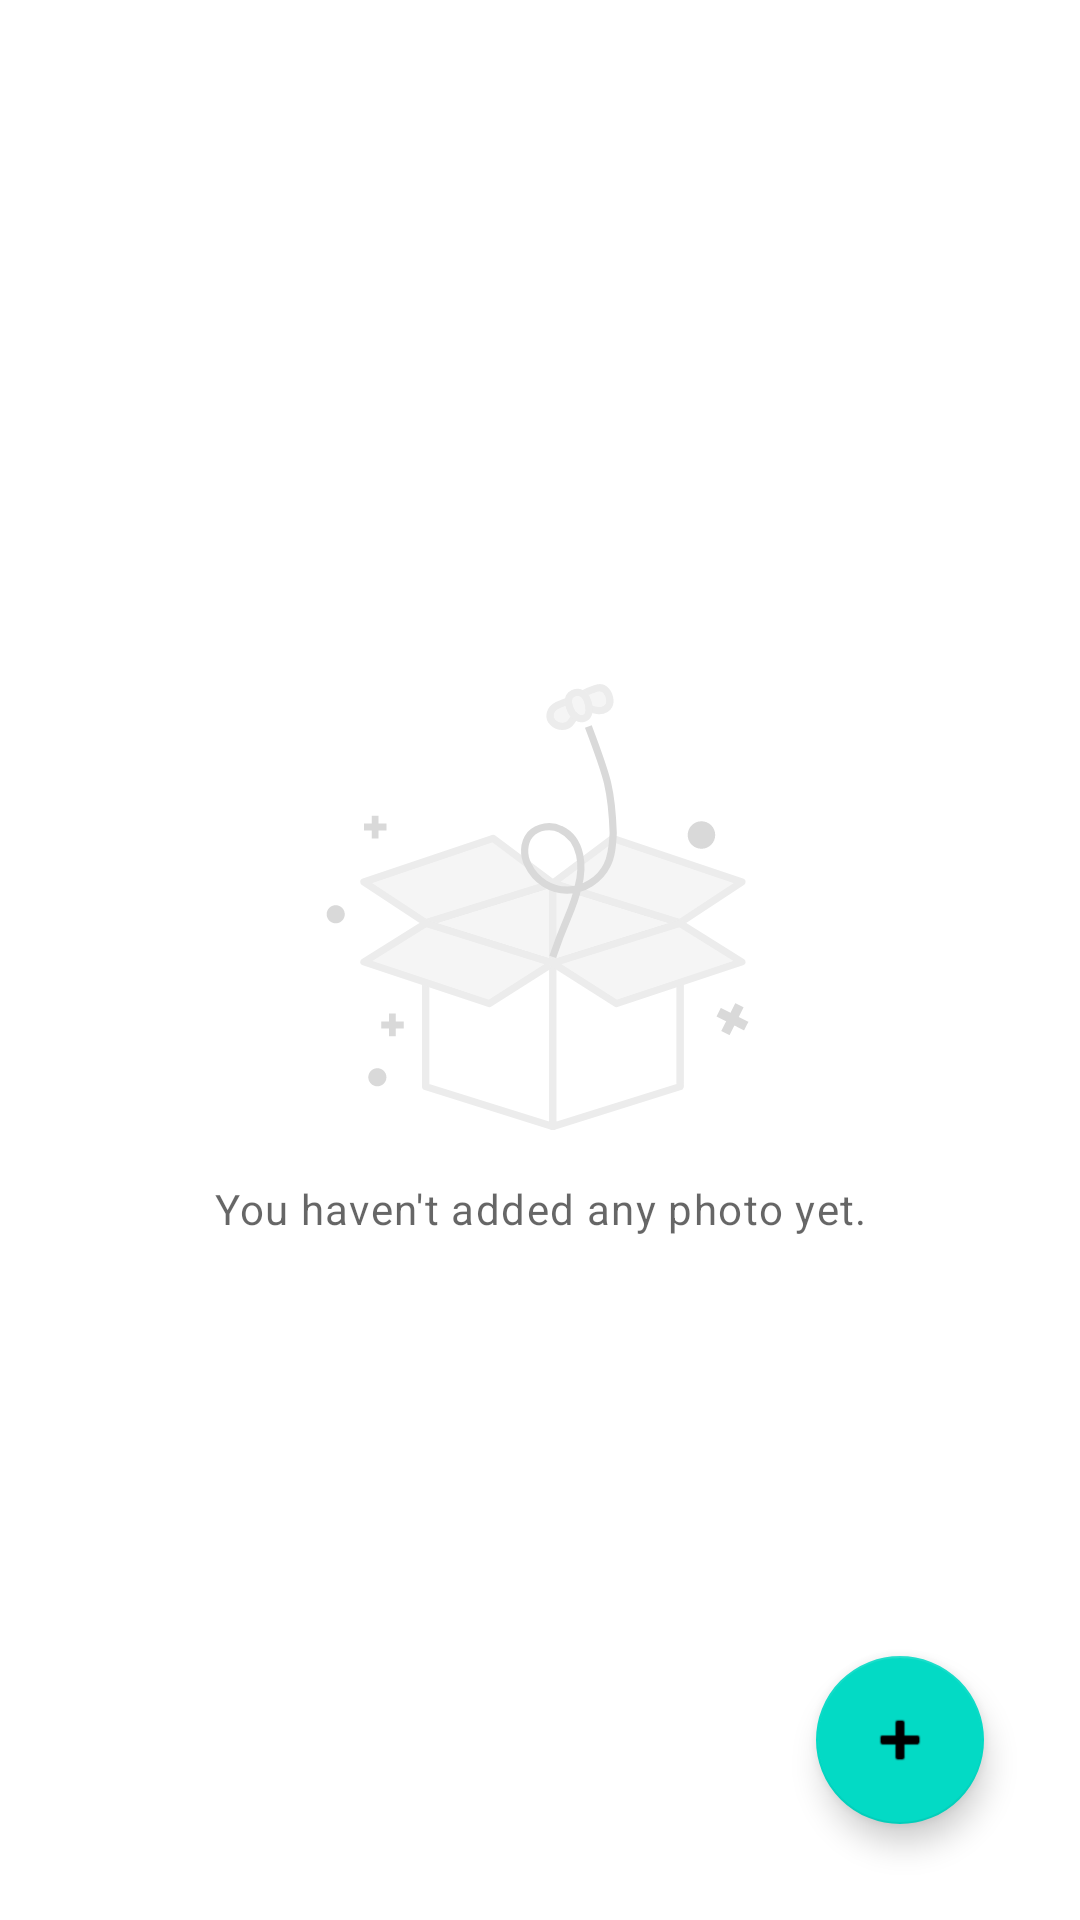

Point at icon controls on the screen. Image size 1080 × 1920, points as point (x, y).
Add Weather Photo: point (900, 1740)
